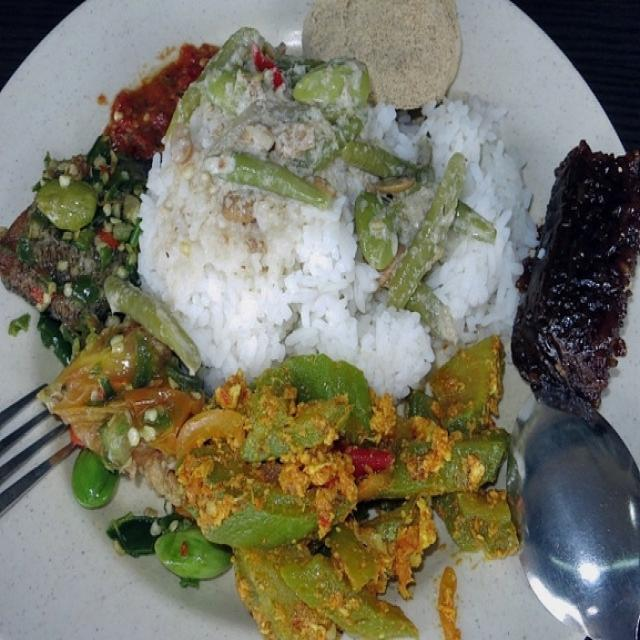米饭主食: (18, 15, 616, 612)
